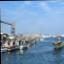fishing boat: (52, 33, 63, 50)
